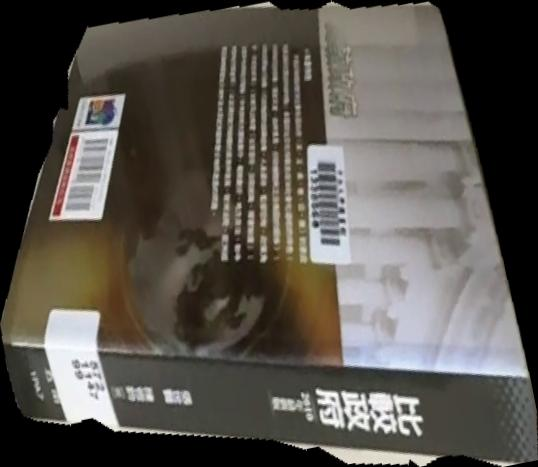flat: (1, 1, 538, 467)
